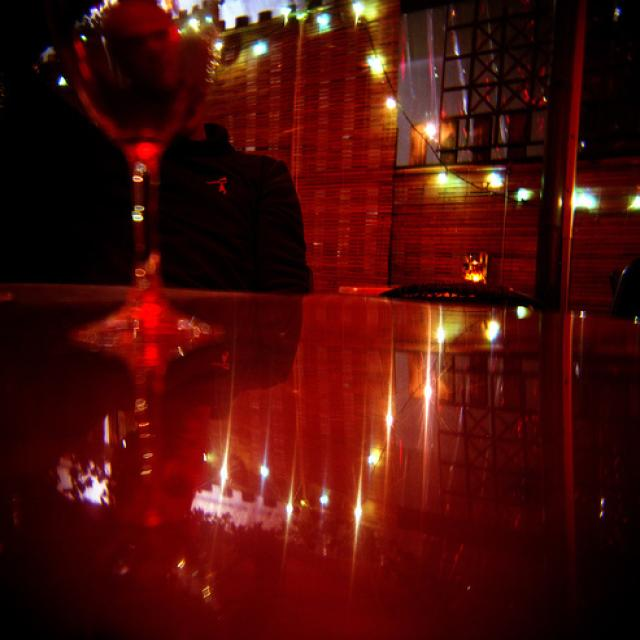Cup: (62, 6, 213, 369), (454, 244, 494, 295)
Table: (0, 293, 622, 640)
